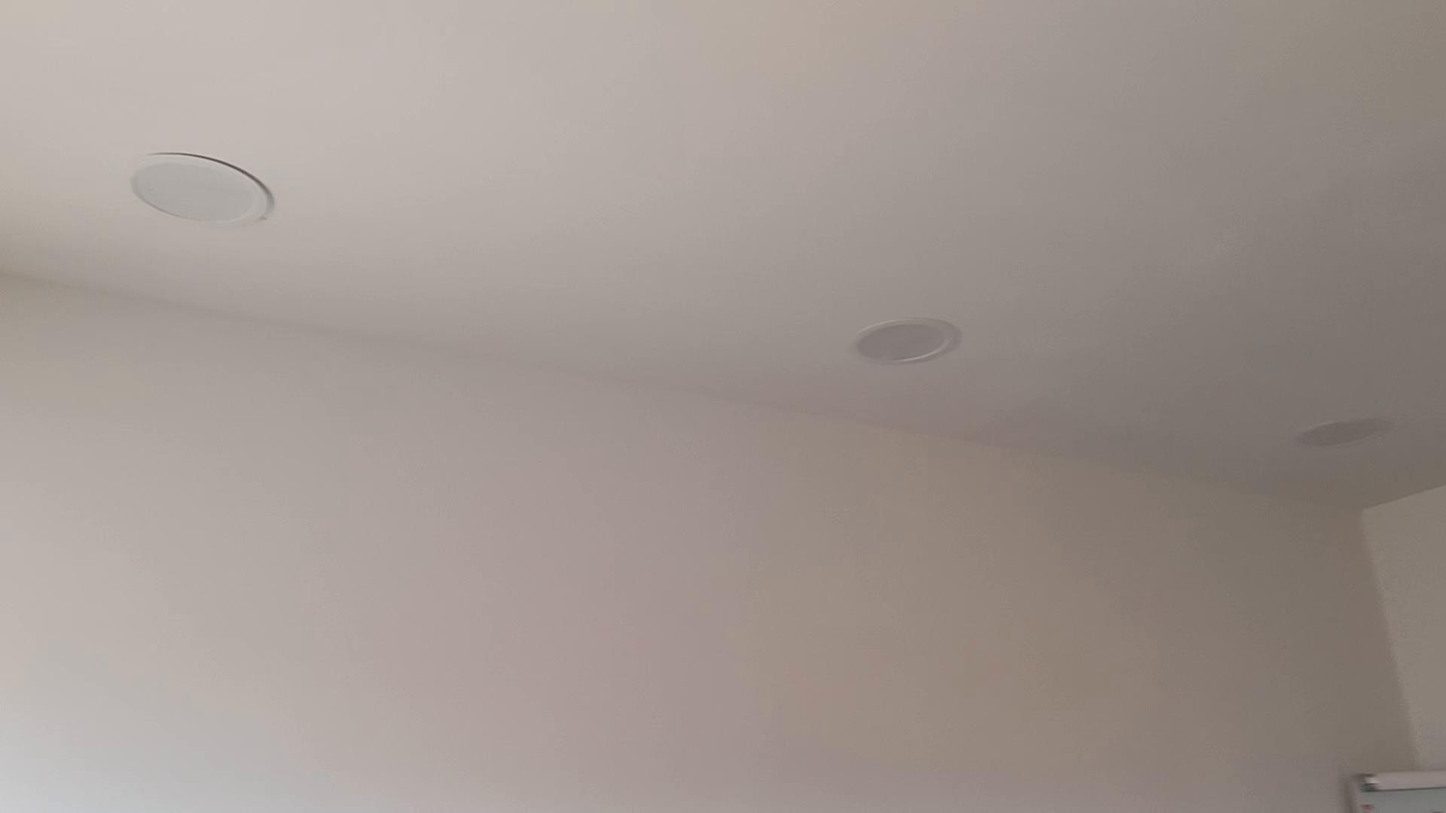ceiling: (0, 2, 1445, 504)
wall: (0, 2, 1445, 810), (0, 280, 1410, 812), (1362, 486, 1445, 769)
